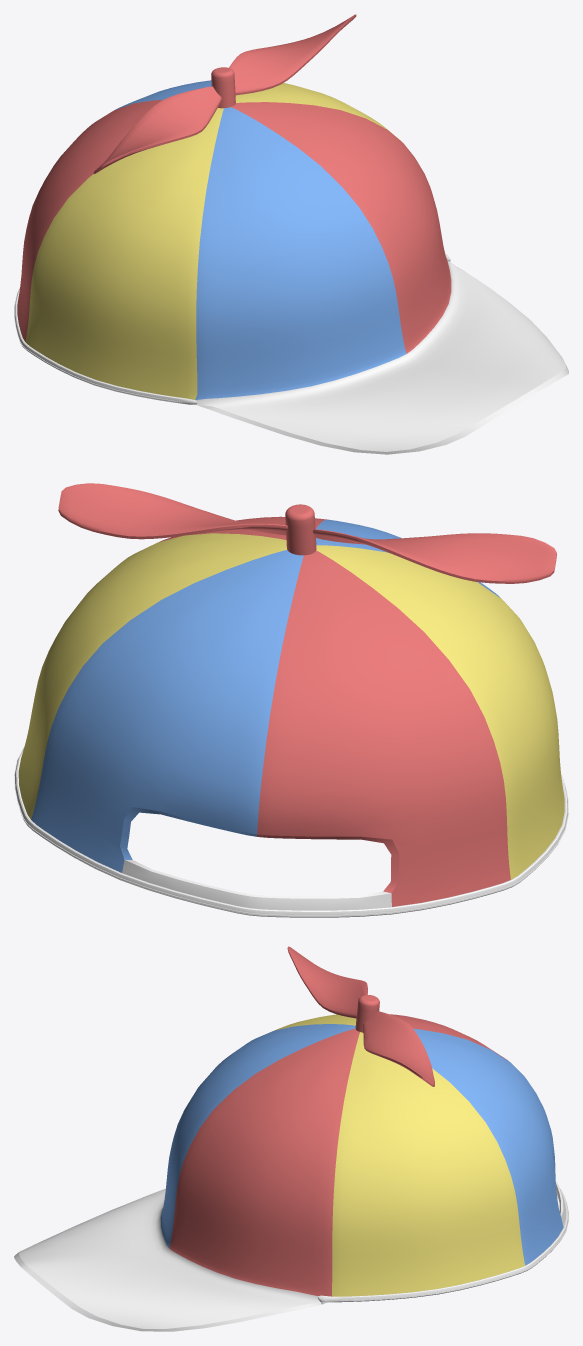
The model's file is Copter.gltf.
3 renders of one model, top to bottom at view 1: azimuth 30°, elevation 25°; view 2: azimuth 150°, elevation 25°; view 3: azimuth 270°, elevation 25°, orthographic. The views are drawn at different scales.
Parts seen in each view (by area): view 1: hat4-PBR.2, hat4-PBR.3, hat4-PBR.1 (×2), hat4-PBR; view 2: hat4-PBR.1 (×2), hat4-PBR.2, hat4-PBR.3, hat4-PBR; view 3: hat4-PBR.1 (×2), hat4-PBR.3, hat4-PBR, hat4-PBR.2.
Boxes of the visible parts, bbox=[...] form: hat4-PBR.2: bbox=[114, 80, 406, 399]; hat4-PBR.3: bbox=[25, 83, 401, 399]; hat4-PBR.1 (×2): bbox=[17, 14, 451, 353]; hat4-PBR: bbox=[14, 253, 568, 454]; hat4-PBR.1 (×2): bbox=[58, 483, 556, 906]; hat4-PBR.2: bbox=[31, 519, 500, 872]; hat4-PBR.3: bbox=[18, 533, 564, 879]; hat4-PBR: bbox=[14, 746, 568, 917]; hat4-PBR.1 (×2): bbox=[169, 946, 508, 1296]; hat4-PBR.3: bbox=[272, 1014, 524, 1296]; hat4-PBR: bbox=[14, 1181, 568, 1331]; hat4-PBR.2: bbox=[160, 1024, 563, 1265].
Size of the model in its own units: 7.33 by 4.51 by 9.15.
